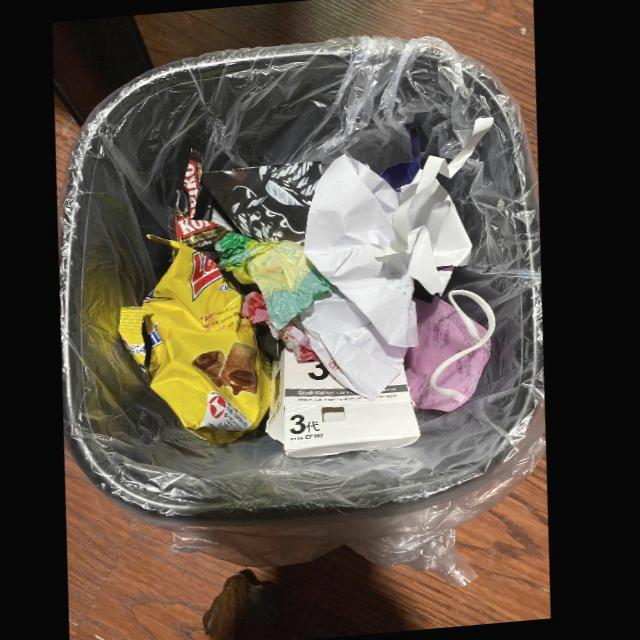cardboard: (270, 348, 426, 458)
food_wrapper: (122, 234, 276, 446), (217, 232, 336, 330), (170, 148, 236, 246), (246, 291, 324, 362)
paper: (303, 117, 495, 401)
